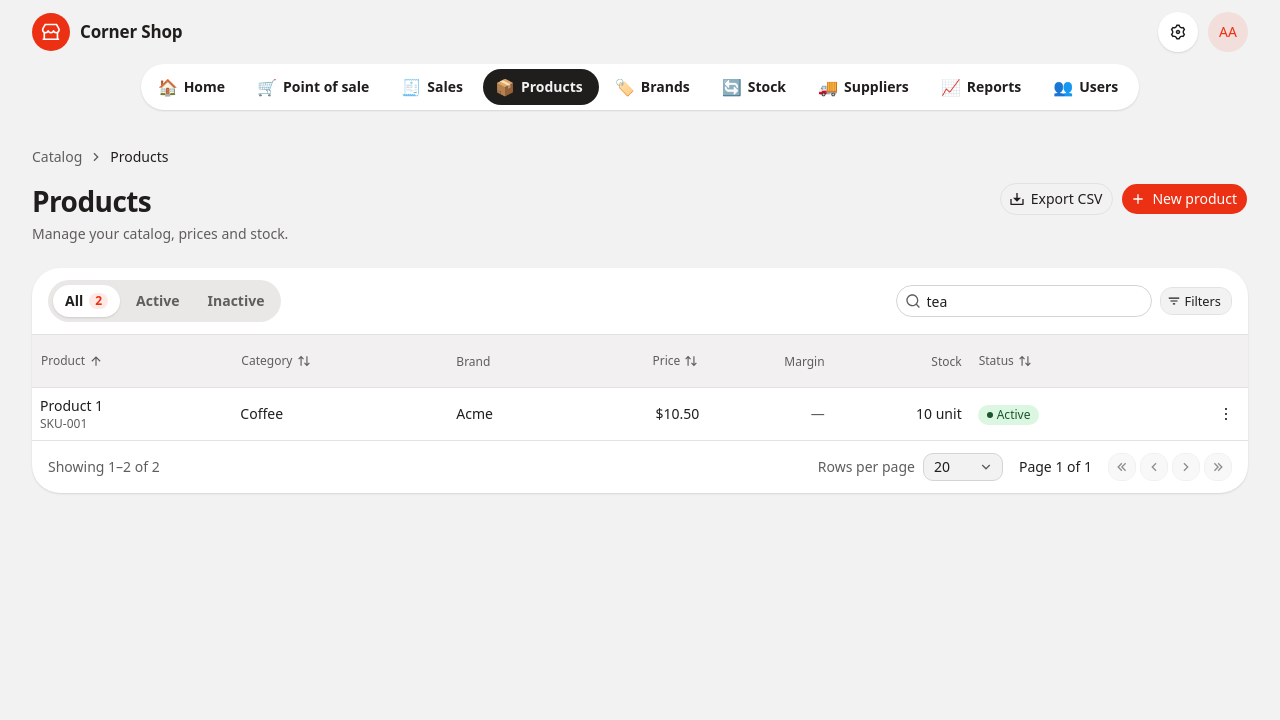
Test: list export › exports every page of products with the list filters, not just the visible page
Expected: the link "Product 1" is shown, x1=40 y1=396 x2=103 y2=415
Click the button "Export CSV": (1057, 199) x1=1000 y1=183 x2=1114 y2=215
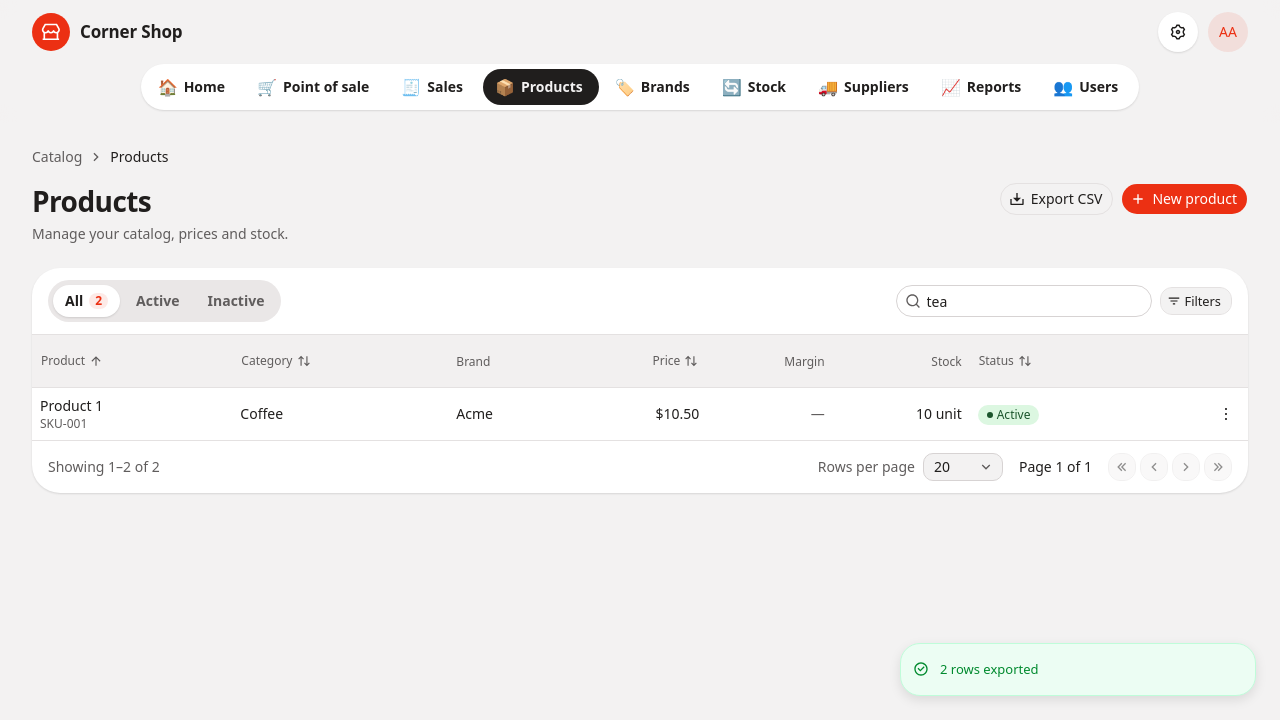
Expected: the text "2 rows exported" is shown, x1=940 y1=660 x2=1039 y2=679
